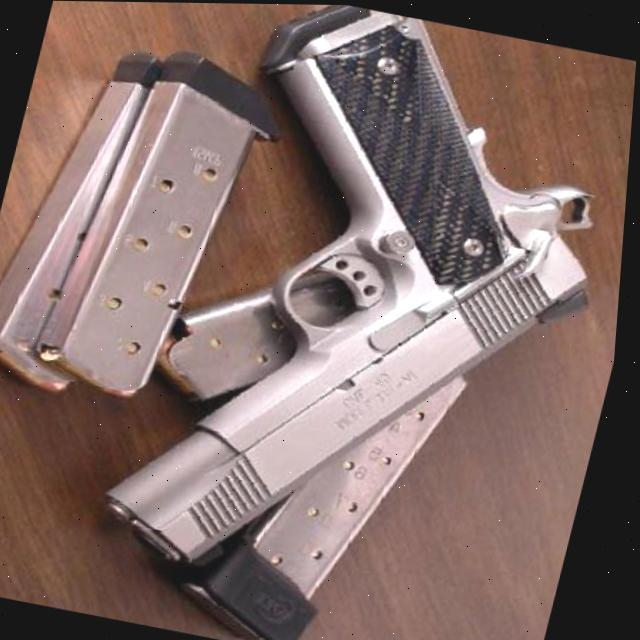gun: (84, 1, 640, 626)
